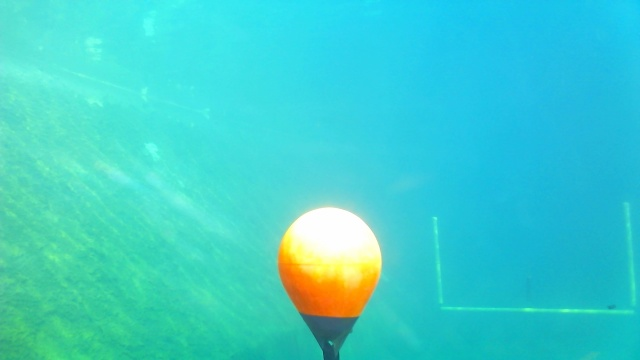buoy_red: (277, 204, 384, 337)
channel: (428, 200, 637, 316)
